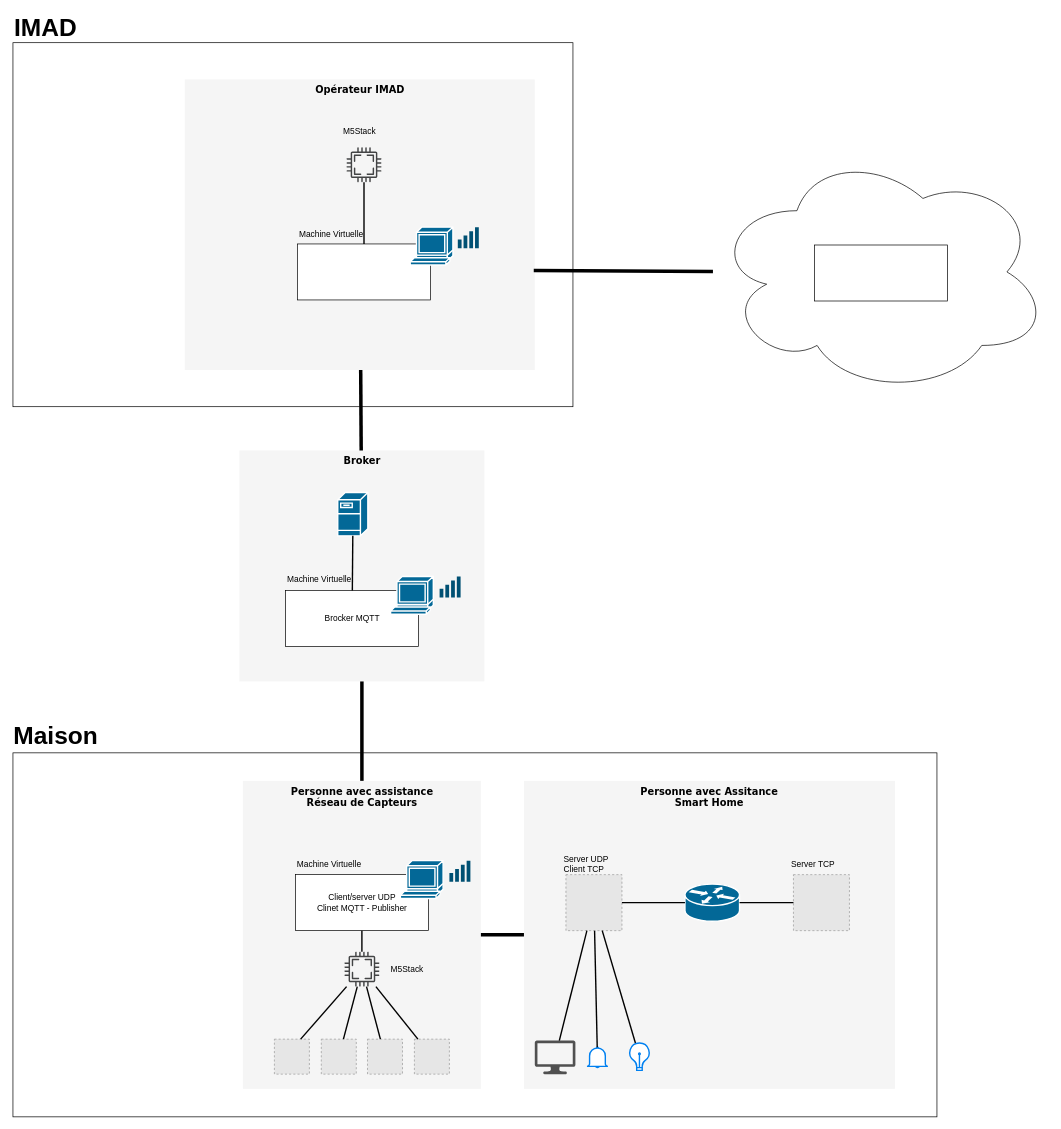
Image size: 1061x1129. Some labels were removed from this diagram. Grey dashed boxes stand in for pictures. Each missing label, with the centre of its shape:
"API Translate IP to Geolocation" belongs at (x=880, y=272).
"Client MQTT - Subscriber" belongs at (x=363, y=271).
